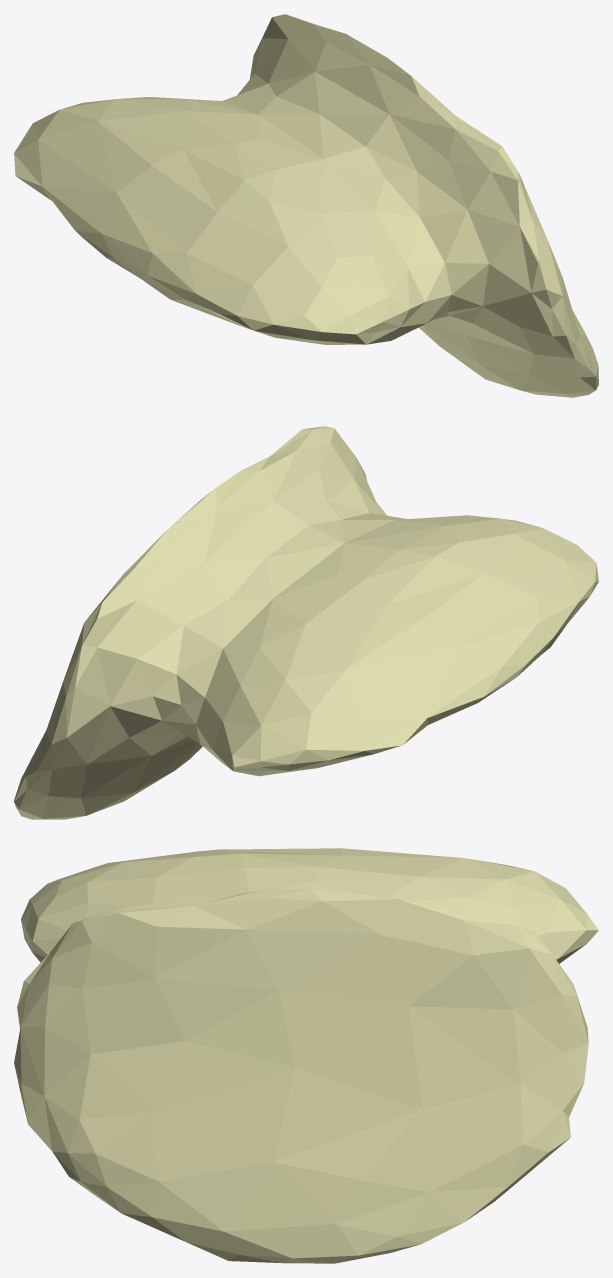
The picture shows the model from 3 angles, top to bottom: view 1: azimuth 30°, elevation 25°; view 2: azimuth 150°, elevation 25°; view 3: azimuth 270°, elevation 25°; orthographic projection. The views are drawn at different scales.
Visible parts, largest first — view 1: 912.obj; view 2: 912.obj; view 3: 912.obj.
Boxes of the visible parts, left/top/right/bottom form: 912.obj: left=14, top=14, right=598, bottom=397; 912.obj: left=14, top=426, right=598, bottom=819; 912.obj: left=14, top=848, right=598, bottom=1263.
Size of the model in its own units: 777 by 580 by 964.
